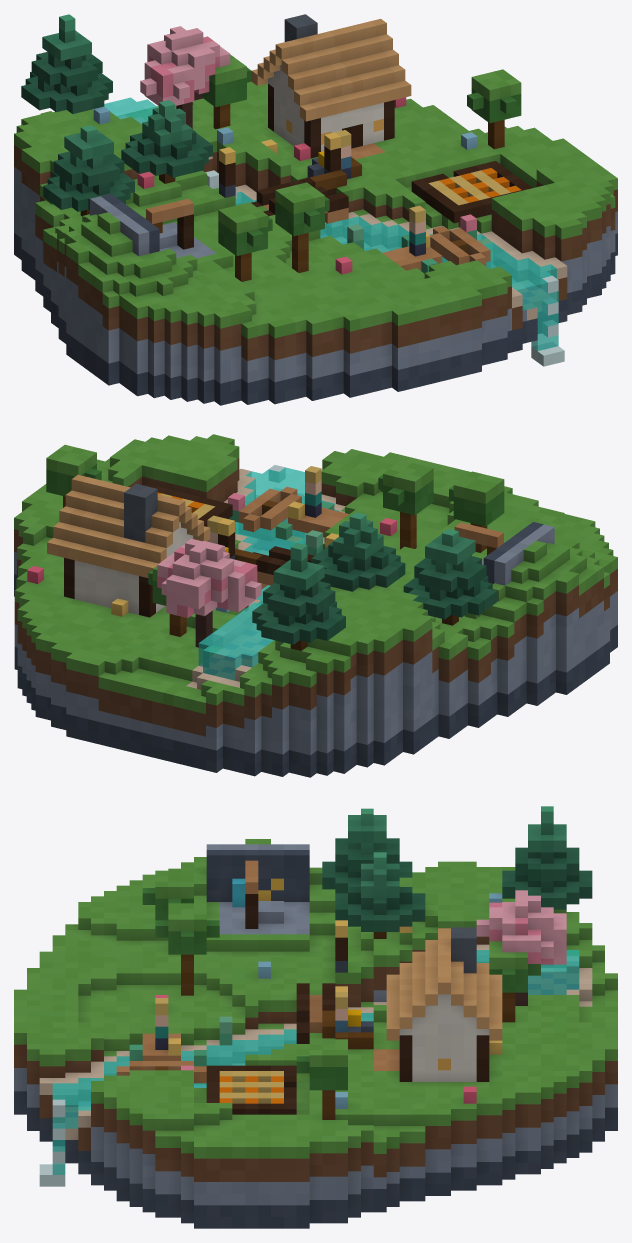
The model's file is valley_stage2_settlement.glb.
The picture shows the model from 3 angles, top to bottom: view 1: azimuth 30°, elevation 25°; view 2: azimuth 150°, elevation 25°; view 3: azimuth 270°, elevation 25°; orthographic projection. The views are drawn at different scales.
Visible parts, largest first — view 1: VoxelDiorama; view 2: VoxelDiorama; view 3: VoxelDiorama.
Boxes of the visible parts, bbox=[...] form: VoxelDiorama: bbox=[14, 14, 617, 405]; VoxelDiorama: bbox=[14, 434, 617, 777]; VoxelDiorama: bbox=[14, 806, 617, 1228].
Bounding box in the file's own units: 24.5 × 10.5 × 23.5.
